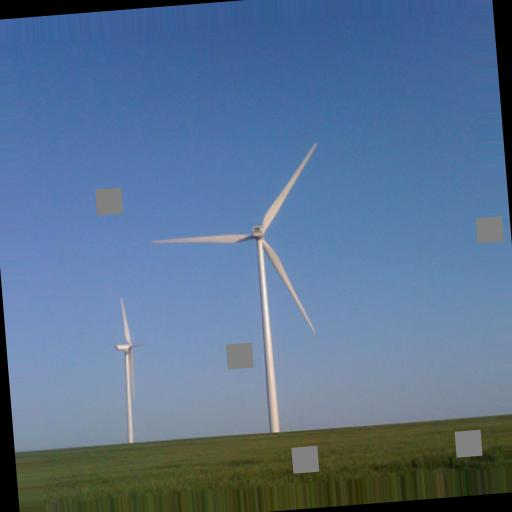wind turbine: (150, 142, 321, 432), (114, 296, 147, 441)
